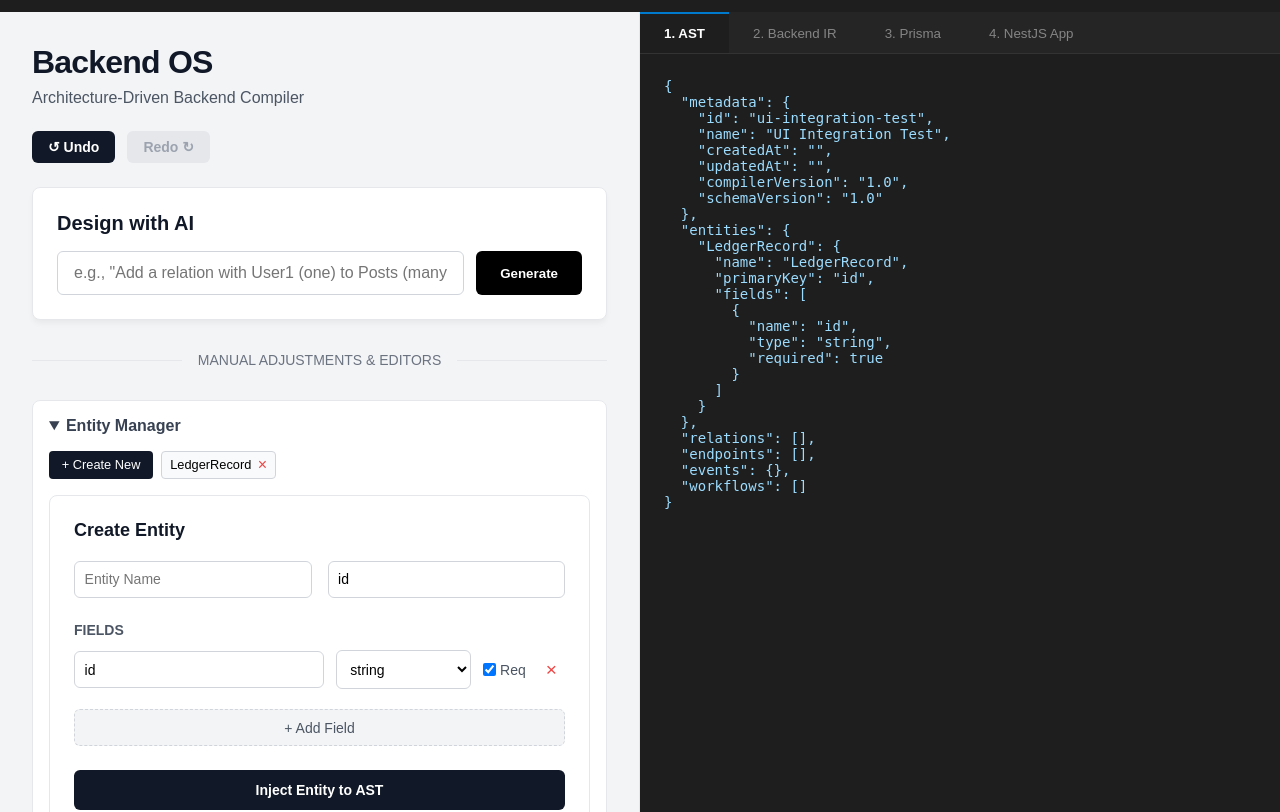
Test case: Sprint 10 UI integration › History toolbar › updates the rendered AST when Undo and Redo are clicked
Expected: the text "\"LedgerRecord\"" is shown, [664,78,951,510]
Click the button "↺ Undo". click: (74, 147)
box: [32,131,115,163]
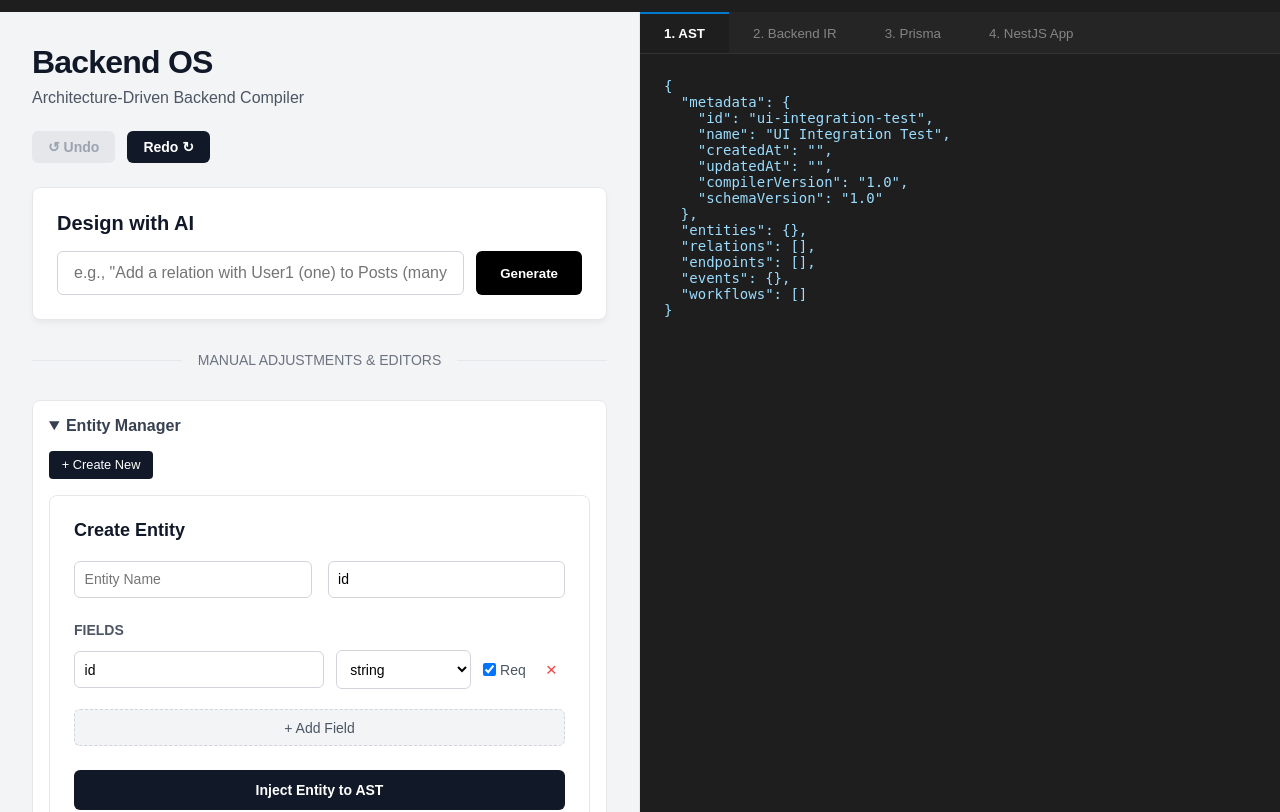
Now the text "\"LedgerRecord\"" is gone
Now the button "Redo ↻" is enabled
Click the button "Redo ↻". click: (169, 147)
box: [127,131,210,163]
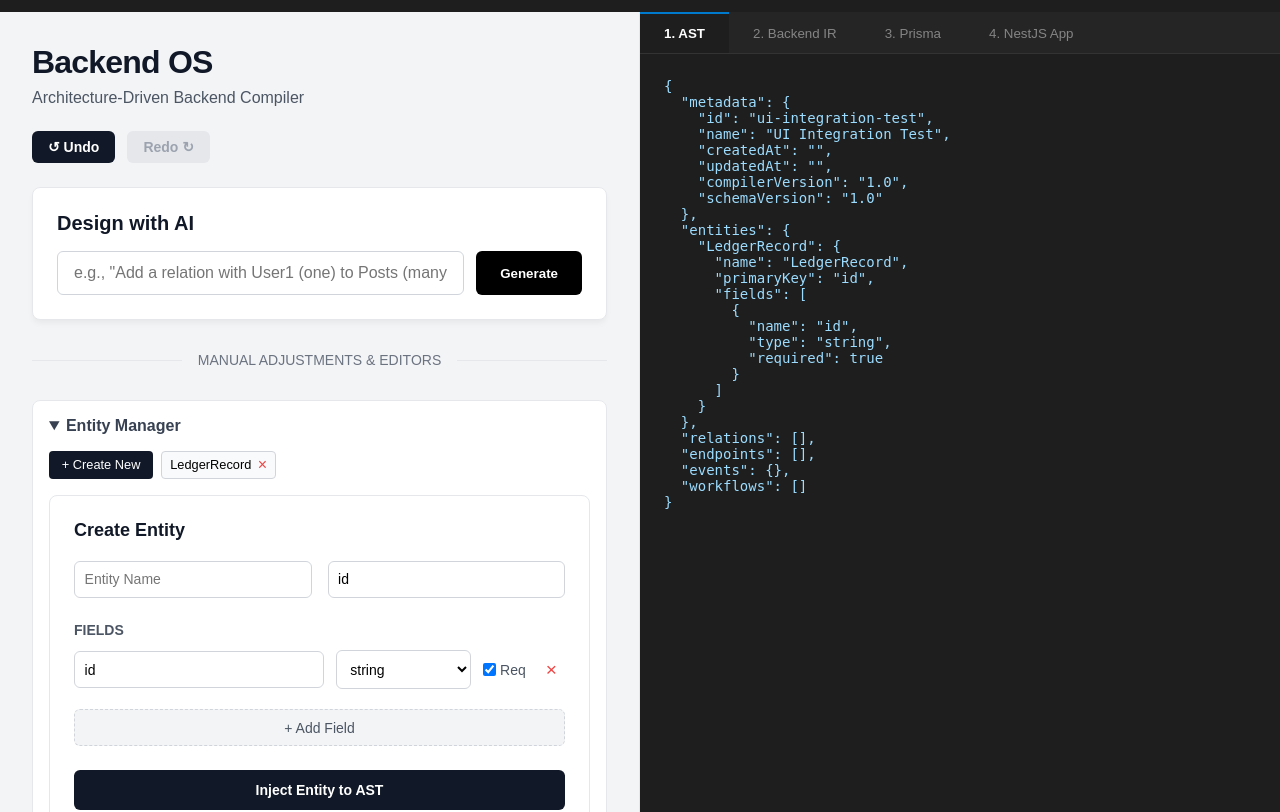
Now the text "\"LedgerRecord\"" is shown, box [664,78,951,510]
